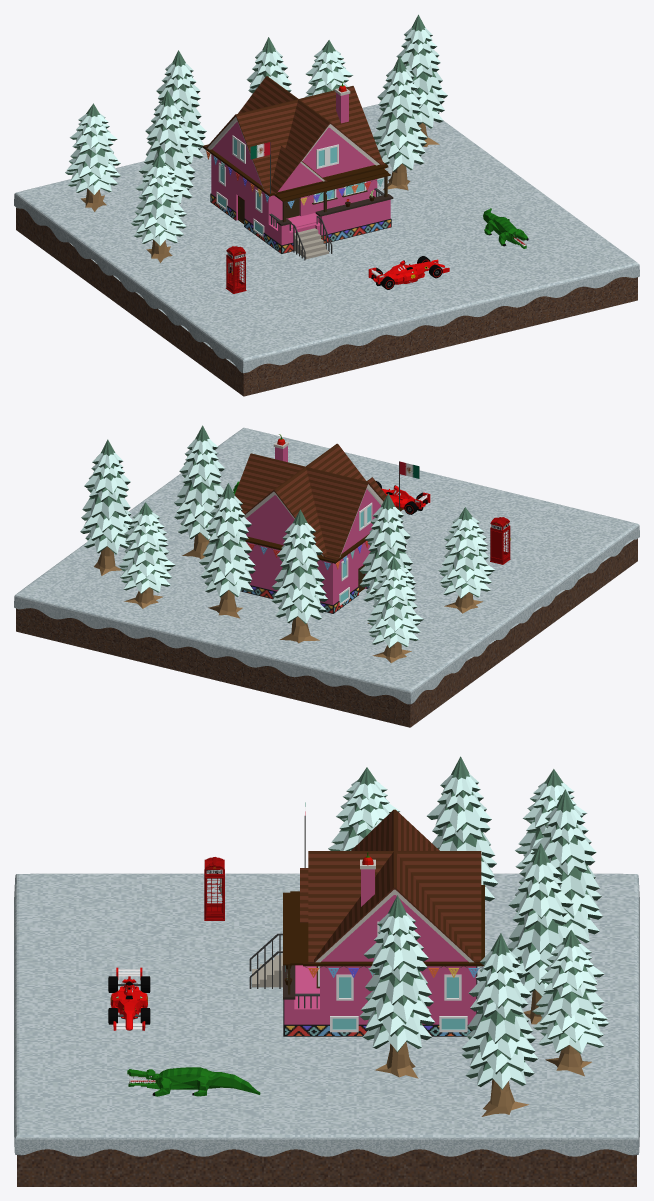
The picture shows the model from 3 angles, top to bottom: view 1: azimuth 30°, elevation 25°; view 2: azimuth 150°, elevation 25°; view 3: azimuth 270°, elevation 25°; orthographic projection. The views are drawn at different scales.
Visible parts, largest first — view 1: Cube.003, Cube.1005, VEHICLES_FORMULA_1, ANIMAL_COCODRILO, OBJRANDOM_PHONEBOOTH; view 2: Cube.003, Cube.1005, OBJRANDOM_PHONEBOOTH, VEHICLES_FORMULA_1; view 3: Cube.003, Cube.1005, ANIMAL_COCODRILO, VEHICLES_FORMULA_1, OBJRANDOM_PHONEBOOTH.
Part boxes in pixels (<box>): Cube.003: <box>14,14,639,396</box>; Cube.1005: <box>202,76,393,260</box>; VEHICLES_FORMULA_1: <box>368,256,449,289</box>; ANIMAL_COCODRILO: <box>483,208,528,248</box>; OBJRANDOM_PHONEBOOTH: <box>225,246,246,293</box>; Cube.003: <box>14,425,639,727</box>; Cube.1005: <box>234,434,419,613</box>; OBJRANDOM_PHONEBOOTH: <box>490,517,510,564</box>; VEHICLES_FORMULA_1: <box>376,481,430,514</box>; Cube.003: <box>14,756,639,1186</box>; Cube.1005: <box>249,802,484,1036</box>; ANIMAL_COCODRILO: <box>127,1067,260,1096</box>; VEHICLES_FORMULA_1: <box>108,967,150,1030</box>; OBJRANDOM_PHONEBOOTH: <box>204,857,224,920</box>.
Bounding box in the file's own units: 4040 × 1665 × 4040.
75 materials, 5 textured.
